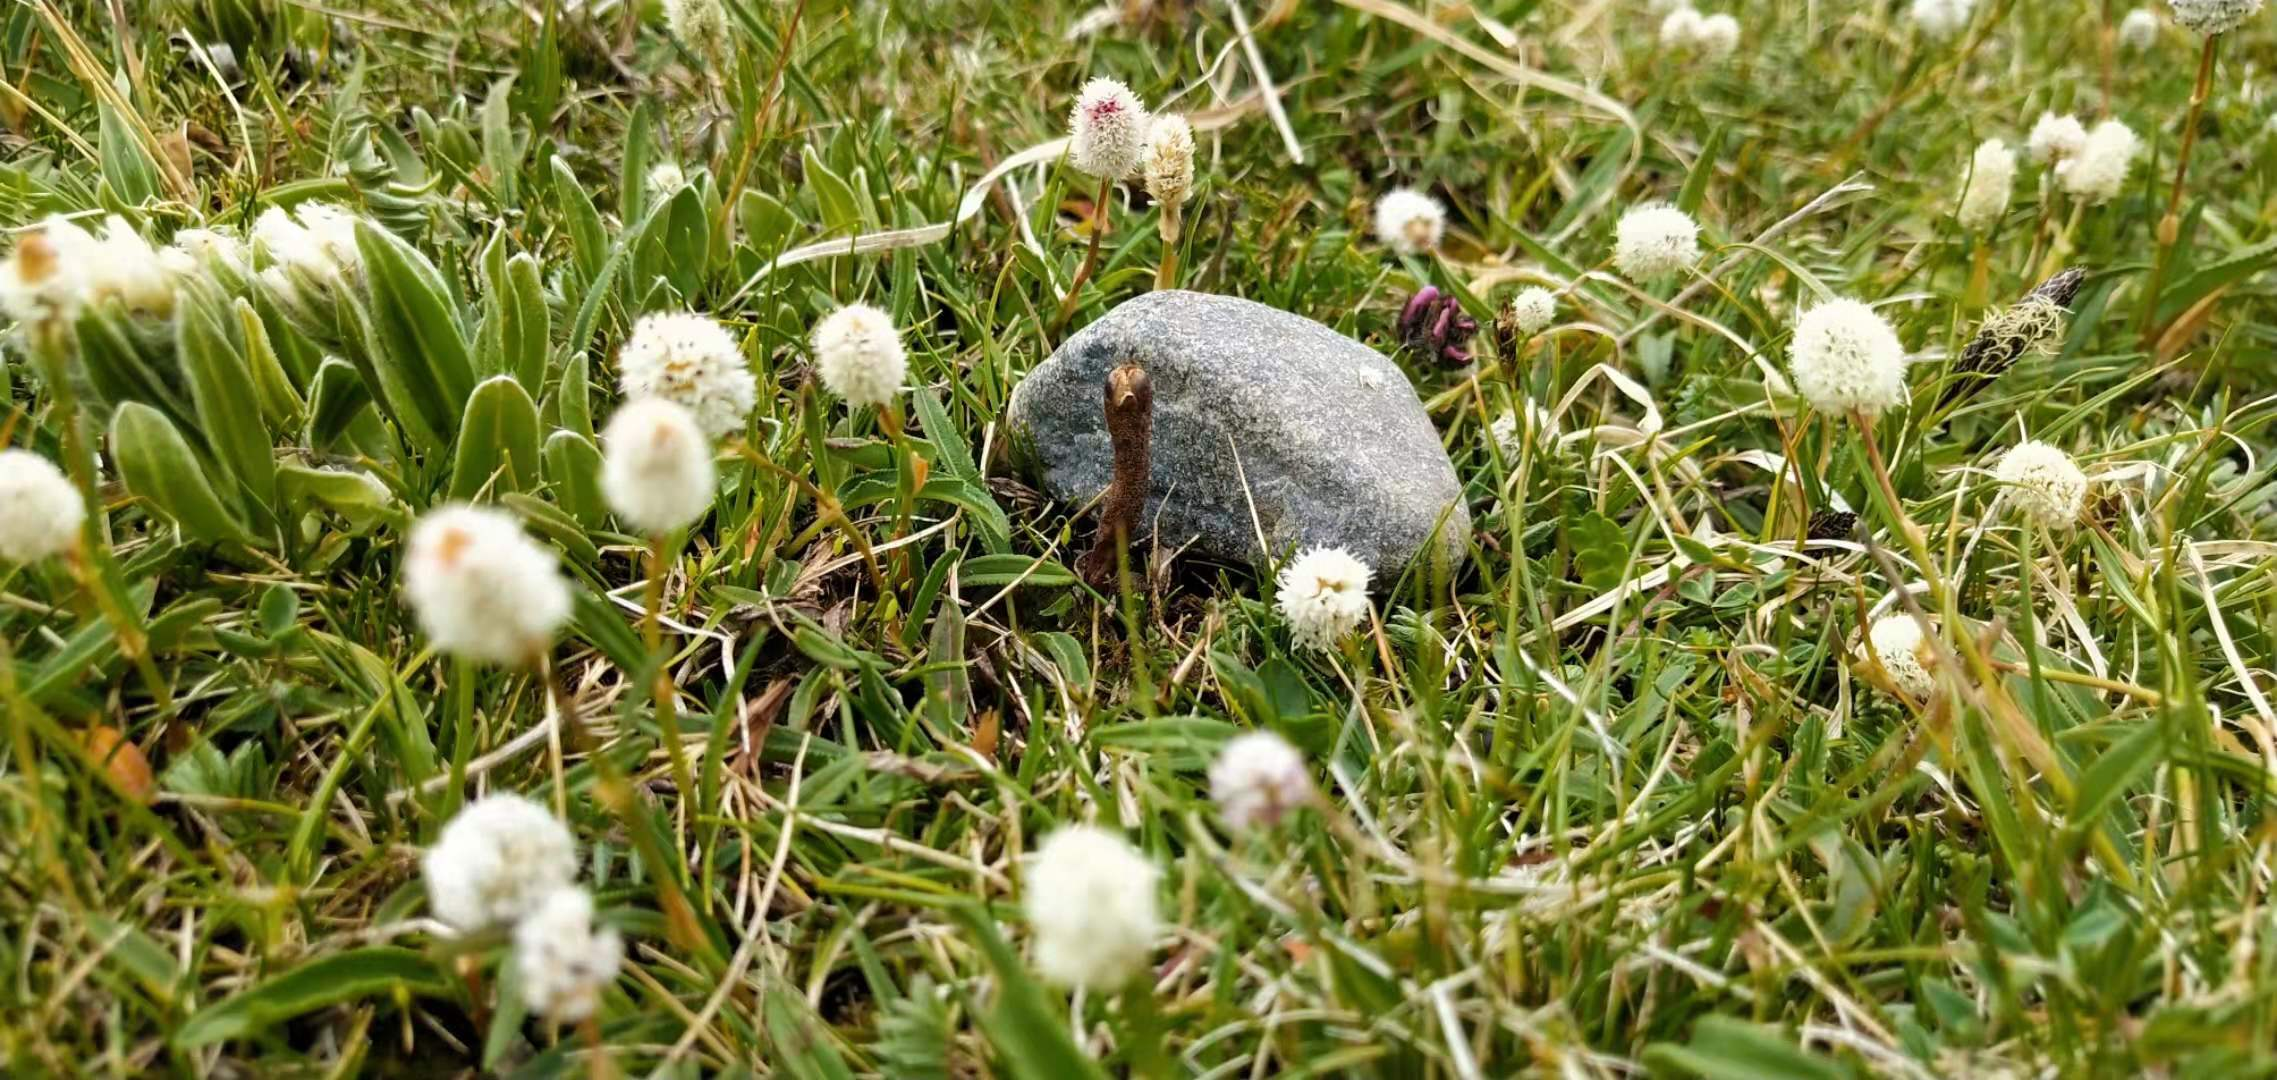Chongcao: (1086, 364, 1154, 595)
